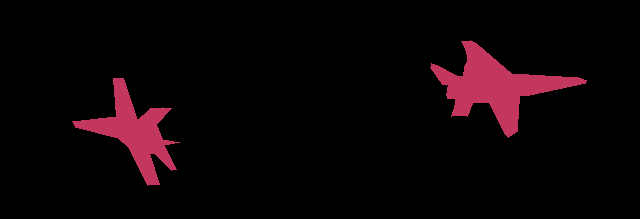Airplane: (430, 40, 586, 138), (72, 78, 179, 186)
